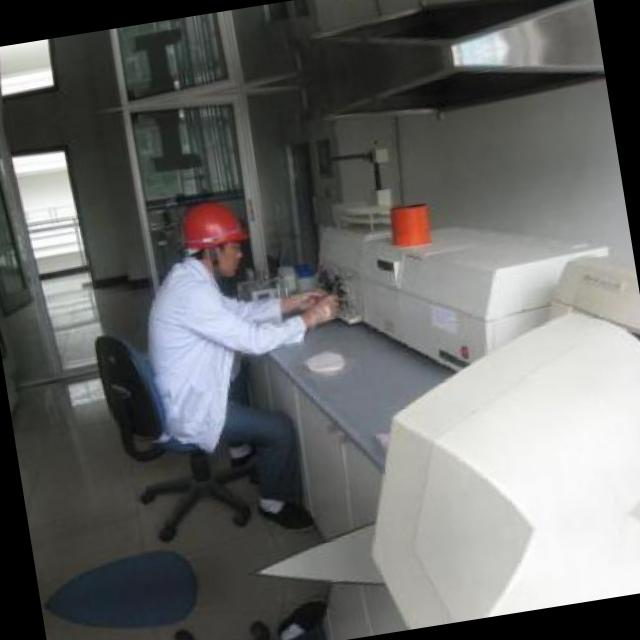helmet: (172, 186, 266, 290)
